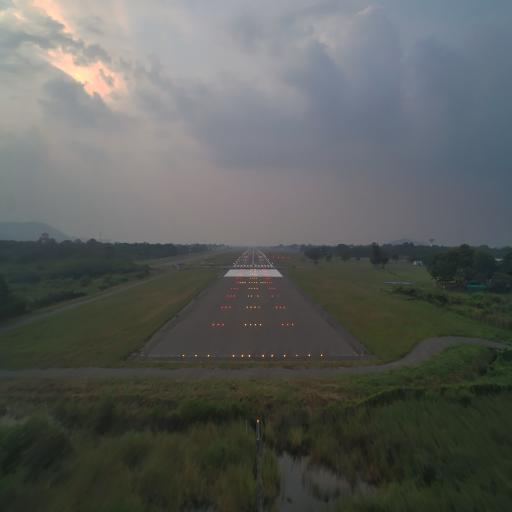off: (219, 354, 223, 358), (254, 354, 258, 358)
on: (181, 353, 185, 359), (194, 352, 198, 358), (206, 353, 210, 359), (270, 353, 274, 359), (230, 354, 235, 358), (283, 352, 286, 358), (308, 352, 311, 358), (320, 352, 323, 358), (294, 354, 298, 358), (262, 353, 265, 358), (241, 354, 244, 358), (221, 323, 224, 327), (254, 322, 257, 326), (281, 323, 284, 327), (291, 323, 294, 327), (248, 353, 250, 358), (212, 322, 214, 327), (217, 322, 219, 326), (244, 322, 246, 326), (249, 322, 251, 326), (286, 323, 288, 327), (260, 324, 262, 326)
